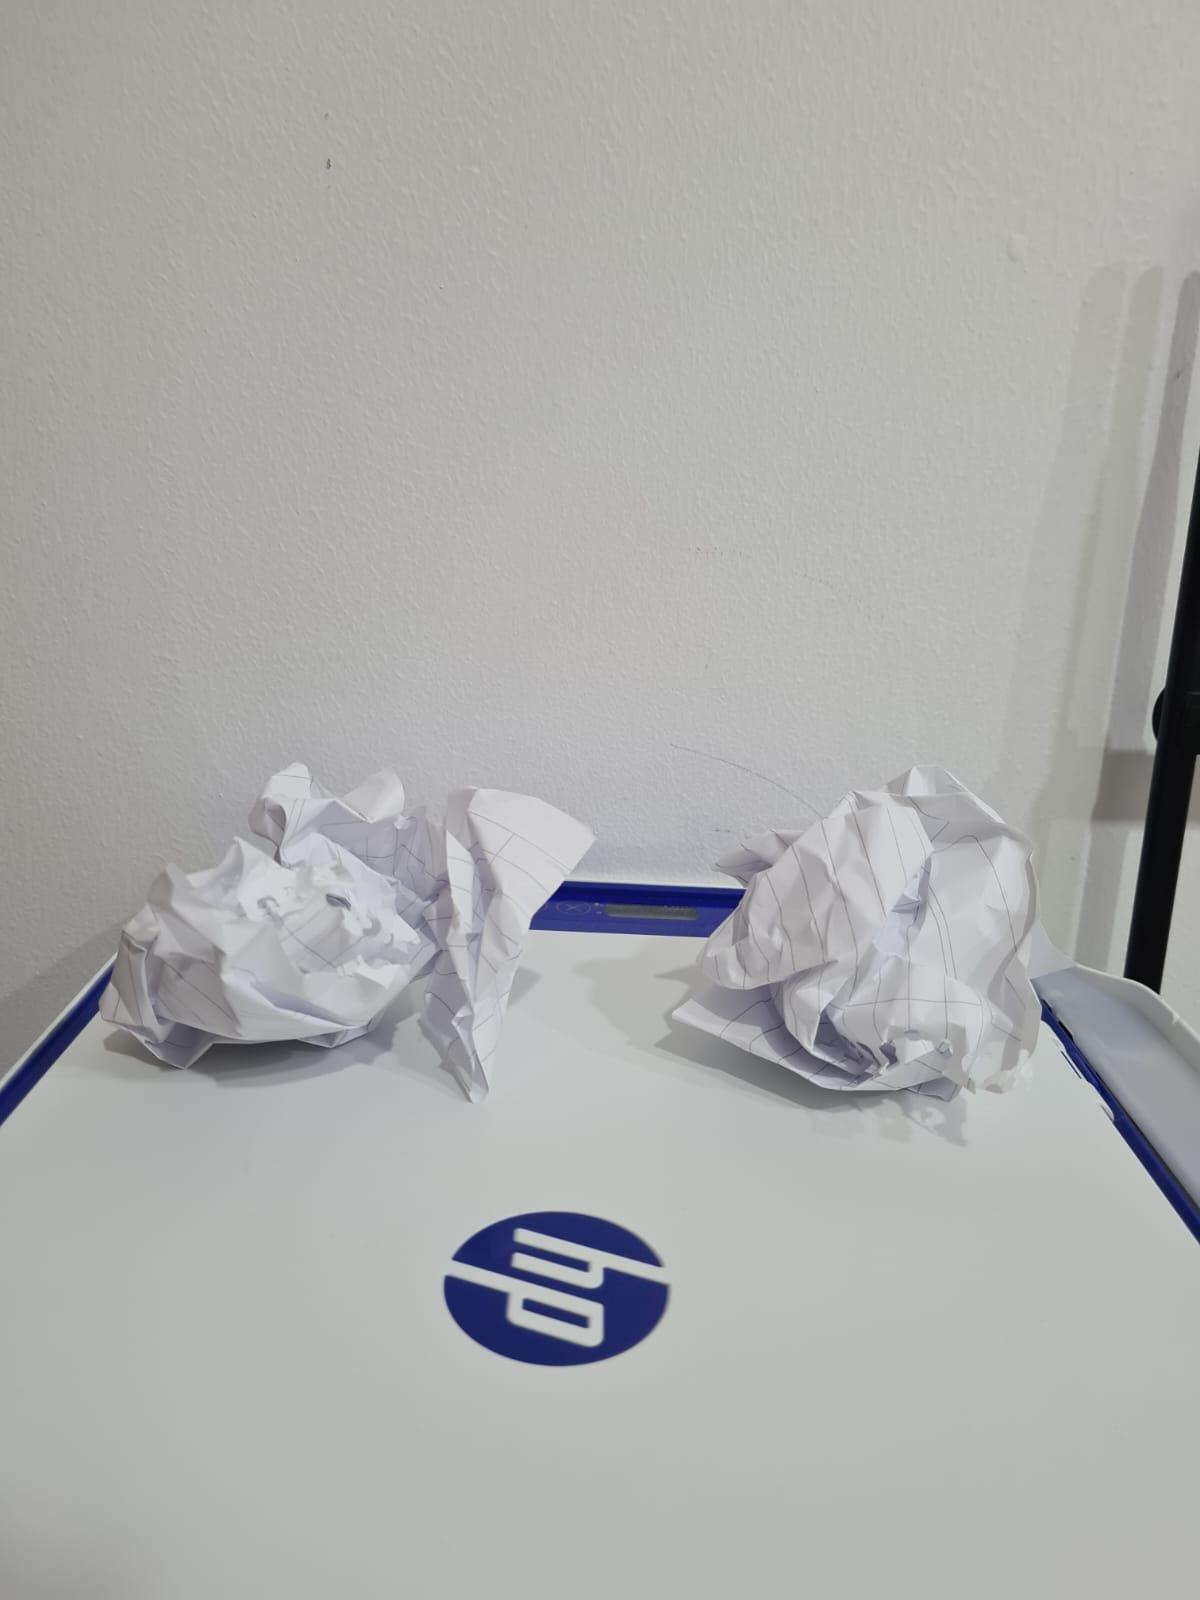Paper: (111, 754, 583, 1097), (708, 757, 1050, 1134)
